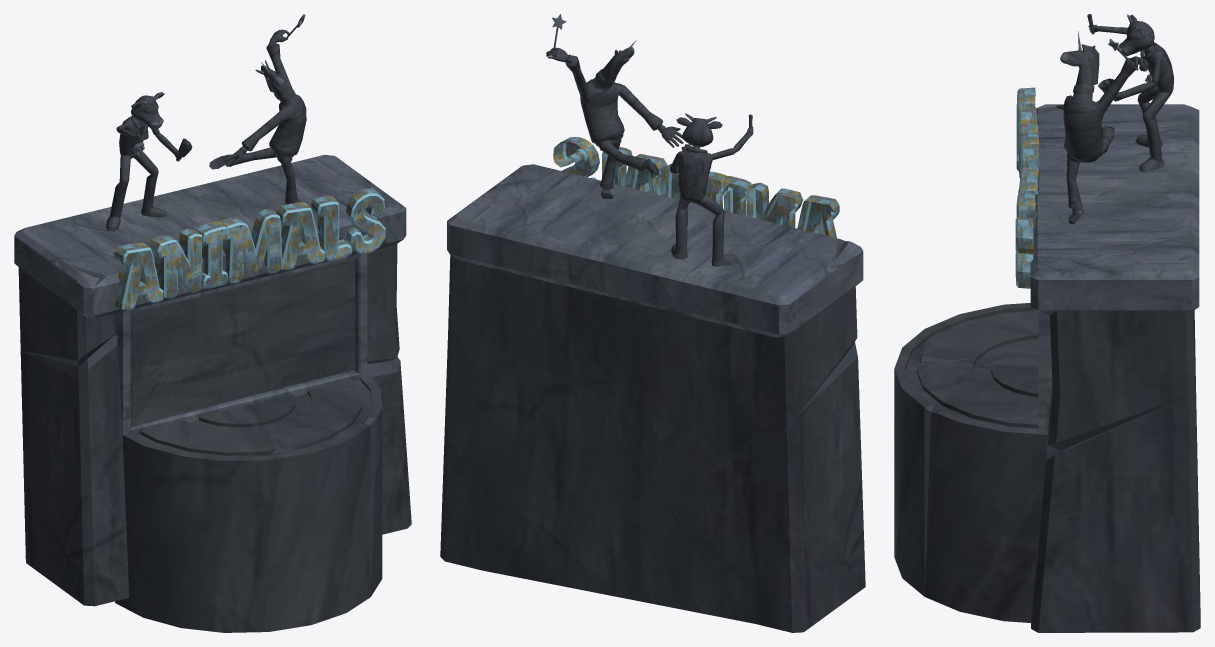
File: stand-animals01.glb
3 views of the same model, side by side, from view 1: azimuth 30°, elevation 25°; view 2: azimuth 150°, elevation 25°; view 3: azimuth 270°, elevation 25° (orthographic). The views are drawn at different scales.
Parts seen in each view (by area): view 1: StandAnimals01; view 2: StandAnimals01; view 3: StandAnimals01.
Boxes of the visible parts, x1,y1,x2,y2 form: StandAnimals01: [14, 14, 411, 632]; StandAnimals01: [440, 14, 865, 632]; StandAnimals01: [894, 14, 1200, 632].
Size of what is drawn, in the model's own units: 11.13 by 16.66 by 8.14.
1 material, 1 textured.
